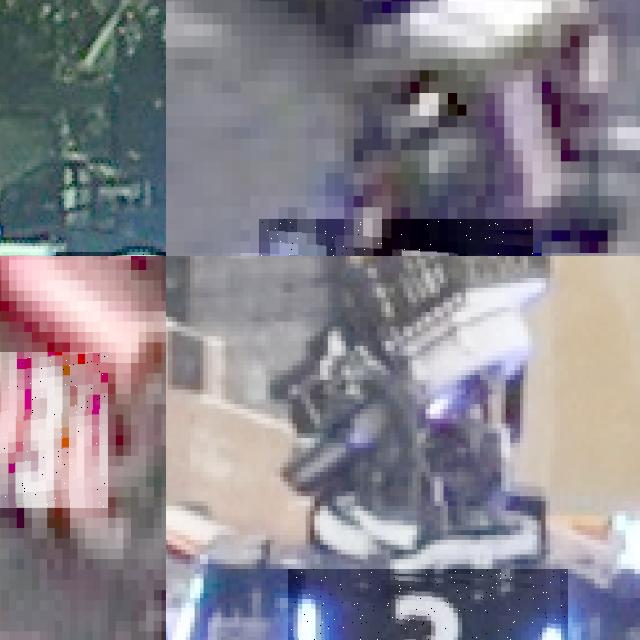B3: (288, 569, 568, 640)
B5: (259, 218, 532, 256)
R3: (0, 352, 108, 507)
